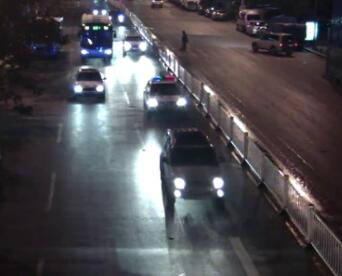bus: (79, 15, 117, 61)
car: (156, 124, 229, 214), (142, 72, 189, 117), (70, 63, 106, 101), (249, 29, 298, 54), (119, 28, 146, 56), (89, 3, 111, 18), (239, 10, 257, 28), (248, 20, 266, 35), (110, 10, 126, 23)
